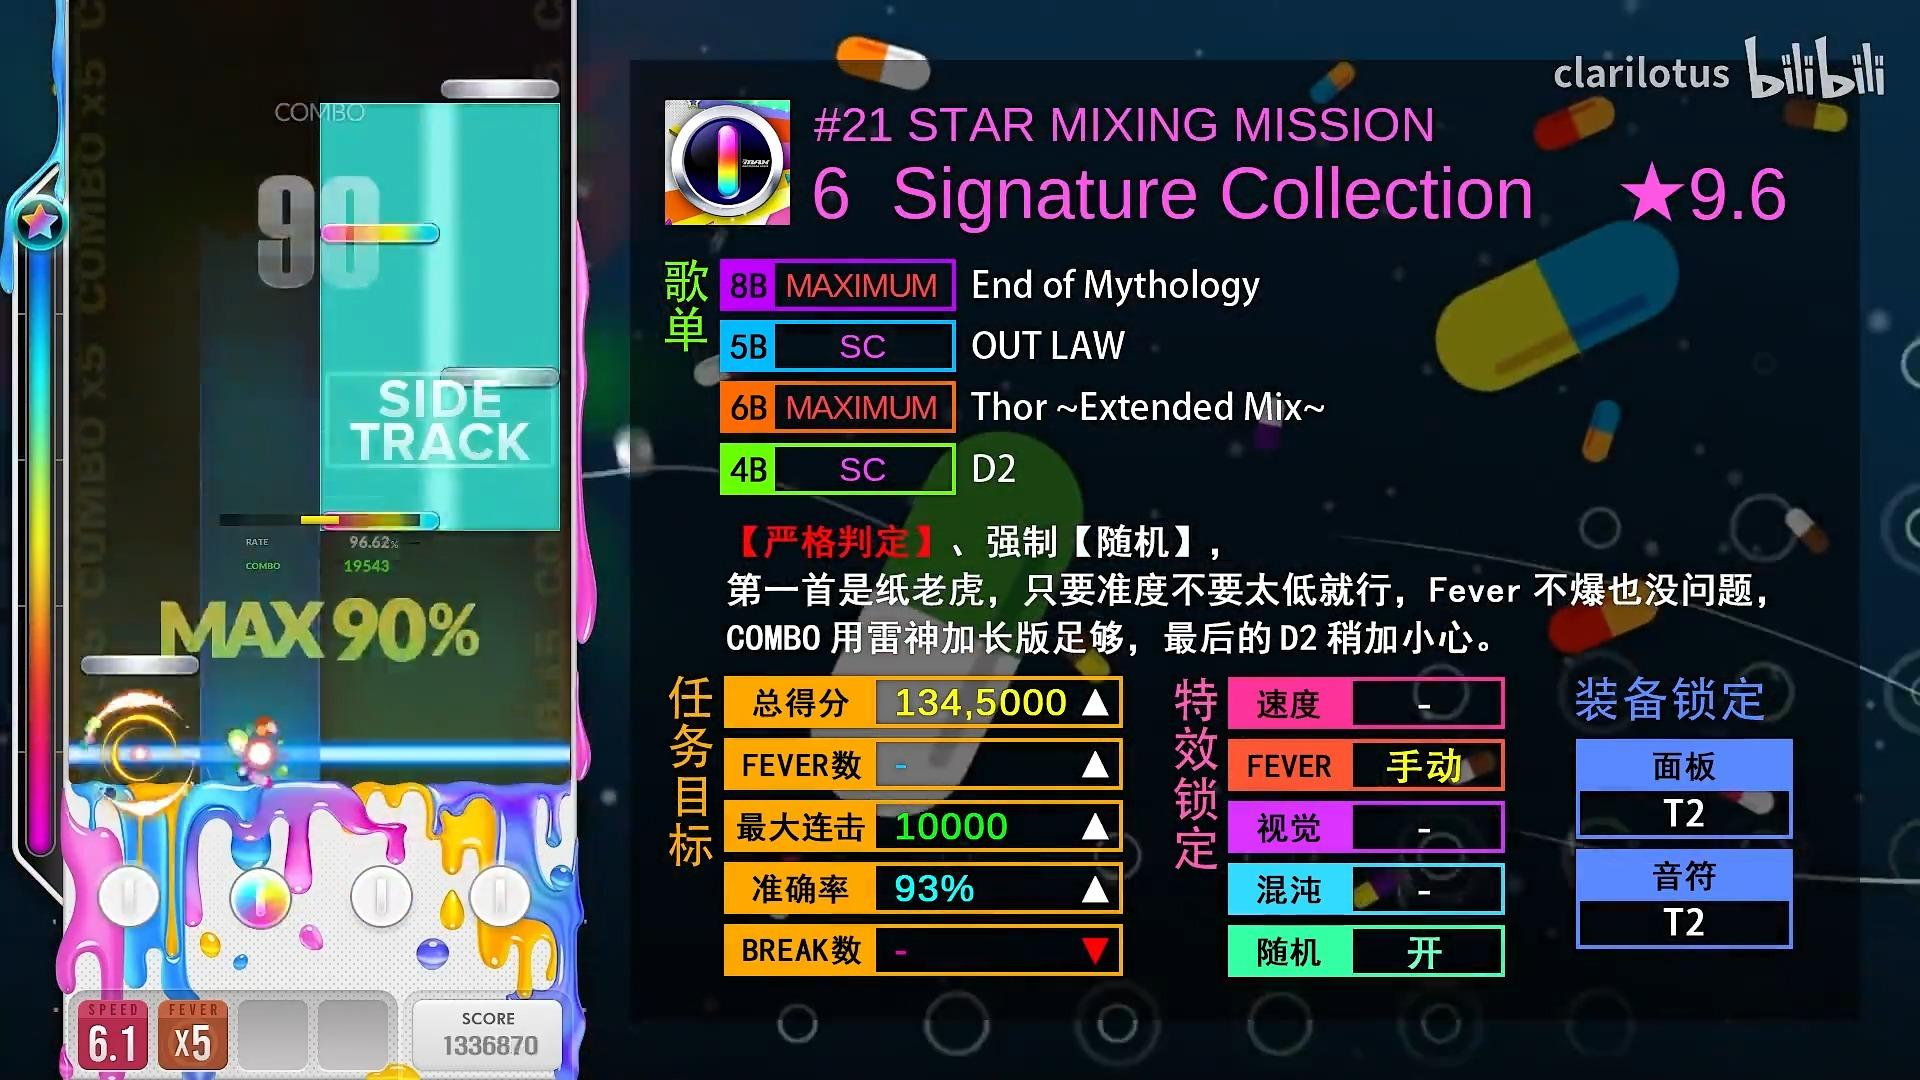note: (439, 365, 559, 389), (440, 78, 559, 100), (320, 223, 440, 244), (80, 655, 199, 675), (320, 512, 439, 531)
side-end: (319, 102, 562, 124)
side-start: (320, 509, 559, 533)
